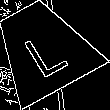L_NW: (15, 19, 70, 78)
